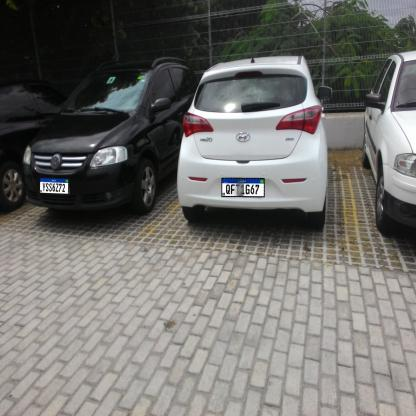PlacaM: (221, 178, 265, 197), (39, 177, 69, 195)
